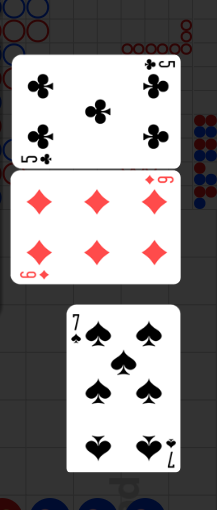5C: (142, 58, 176, 72)
6D: (19, 269, 51, 281)
7S: (164, 436, 177, 469)
